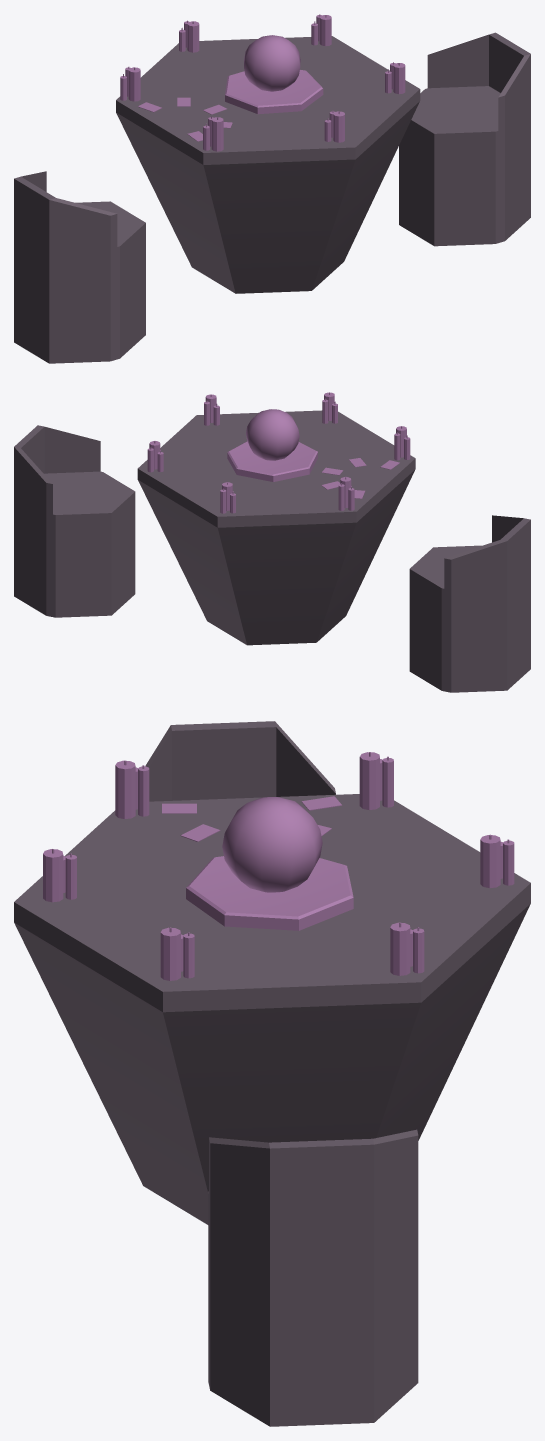
The model's file is mesa2real.fbx.
3 views of the same model, one above another, from view 1: azimuth 30°, elevation 25°; view 2: azimuth 150°, elevation 25°; view 3: azimuth 270°, elevation 25° (orthographic). The views are drawn at different scales.
Visible parts, largest first — view 1: polySurface4762, polySurface4747, polySurface4755, polySurface4774, polySurface4786, polySurface4824, polySurface4793; view 2: polySurface4762, polySurface4747, polySurface4755, polySurface4774, polySurface4786; view 3: polySurface4762, polySurface4747, polySurface4755, polySurface4774, polySurface4786, polySurface4824, polySurface4793, polySurface4803, polySurface4808, polySurface4816, polySurface4821.
Part boxes in pixels (left/top/right/bottom): polySurface4762: left=116, top=36, right=420, bottom=293; polySurface4747: left=399, top=32, right=530, bottom=246; polySurface4755: left=14, top=171, right=145, bottom=363; polySurface4774: left=225, top=70, right=323, bottom=114; polySurface4786: left=244, top=35, right=300, bottom=91; polySurface4824: left=211, top=117, right=223, bottom=151; polySurface4793: left=128, top=67, right=140, bottom=101; polySurface4762: left=137, top=410, right=415, bottom=645; polySurface4747: left=14, top=425, right=135, bottom=617; polySurface4755: left=409, top=515, right=530, bottom=692; polySurface4774: left=227, top=441, right=317, bottom=481; polySurface4786: left=246, top=409, right=299, bottom=460; polySurface4762: left=14, top=794, right=530, bottom=1224; polySurface4747: left=208, top=1129, right=418, bottom=1426; polySurface4755: left=145, top=721, right=335, bottom=801; polySurface4774: left=186, top=856, right=353, bottom=930; polySurface4786: left=222, top=797, right=322, bottom=892; polySurface4824: left=115, top=760, right=135, bottom=819; polySurface4793: left=359, top=752, right=379, bottom=809; polySurface4803: left=480, top=834, right=500, bottom=888; polySurface4808: left=390, top=922, right=410, bottom=975; polySurface4816: left=160, top=927, right=180, bottom=980; polySurface4821: left=43, top=849, right=63, bottom=902.
Bounding box in the file's own units: 298 × 134 × 153.
